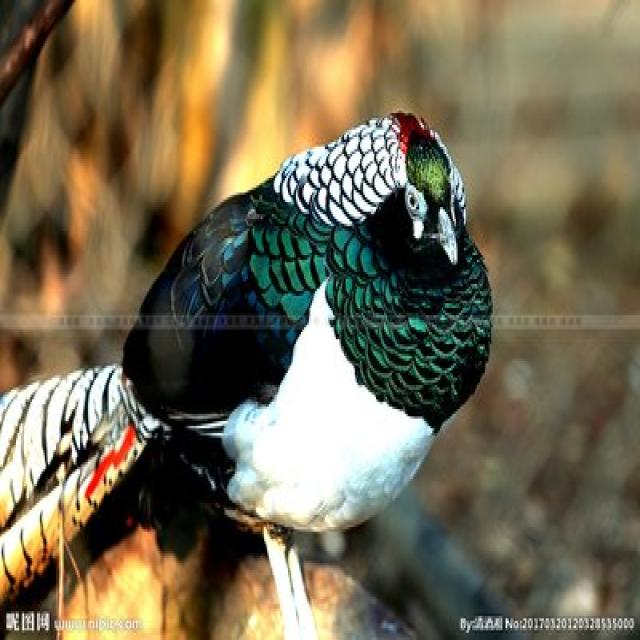Chrysolophus amherstiae: (0, 366, 168, 604)
